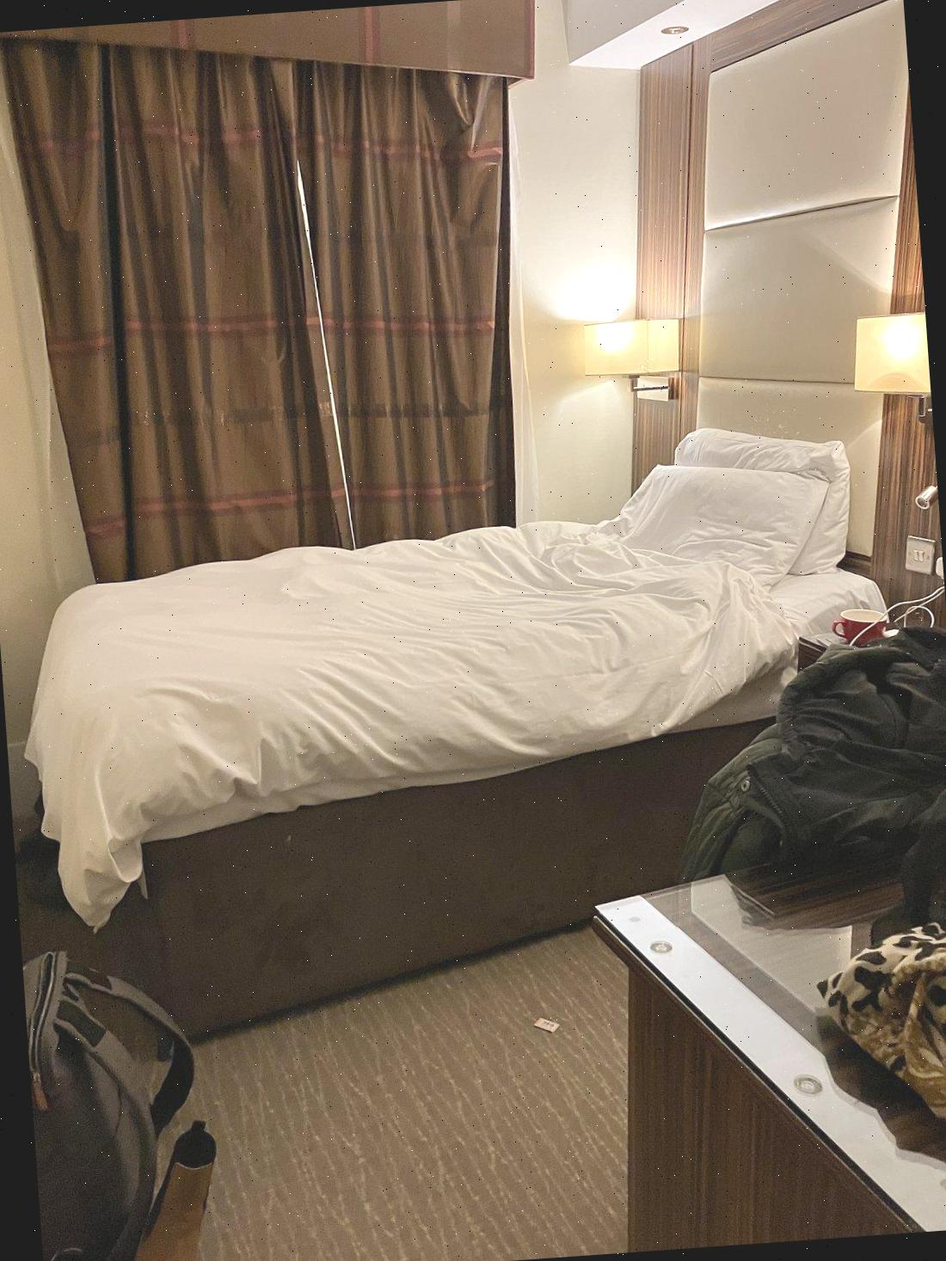Disorganized_pillow: (600, 425, 854, 580)
lamp: (563, 303, 713, 431), (860, 309, 936, 473)
messy_bed: (12, 368, 887, 922)
